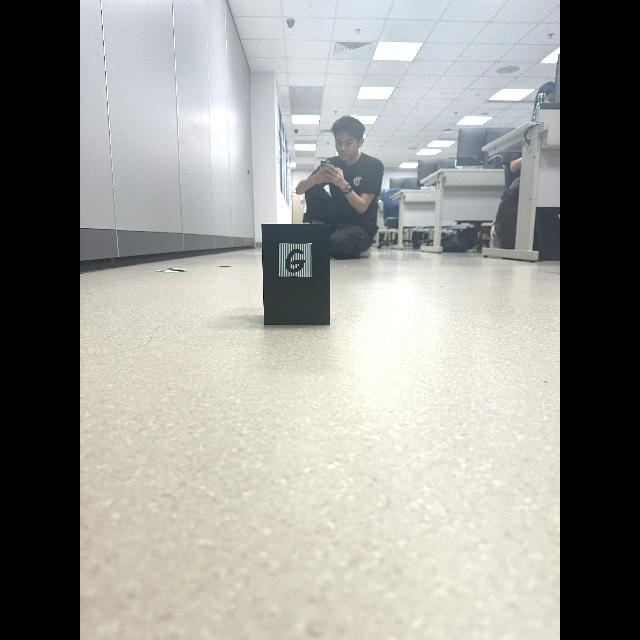G: (286, 248, 305, 273)
